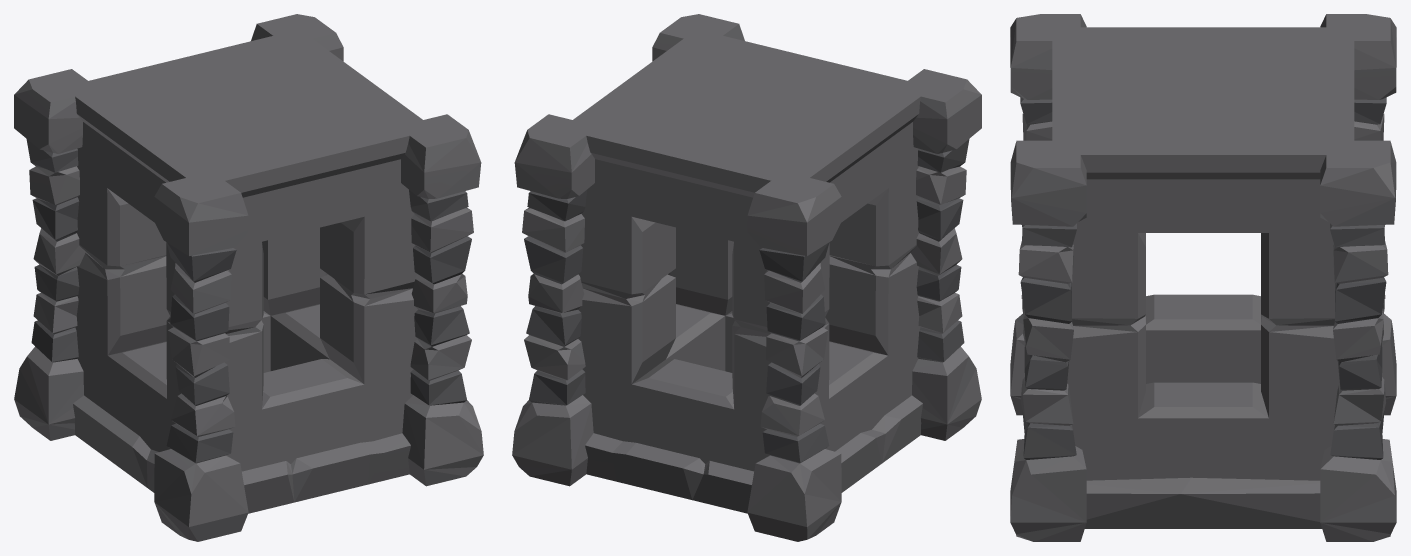
The model's file is SM_Bld_Church_Tower_03_Lite.gltf.
3 views of the same model, side by side, from view 1: azimuth 30°, elevation 25°; view 2: azimuth 150°, elevation 25°; view 3: azimuth 270°, elevation 25° (orthographic). The views are drawn at different scales.
Parts seen in each view (by area): view 1: SM_Bld_Church_Tower_03_Lite; view 2: SM_Bld_Church_Tower_03_Lite; view 3: SM_Bld_Church_Tower_03_Lite.
Boxes of the visible parts, x1,y1,x2,y2 form: SM_Bld_Church_Tower_03_Lite: [14, 14, 483, 541]; SM_Bld_Church_Tower_03_Lite: [512, 14, 981, 541]; SM_Bld_Church_Tower_03_Lite: [1010, 14, 1396, 541].
Size of the model in its own units: 2.97 by 3.26 by 3.05.
Materials: 1 (1 with a texture image).
